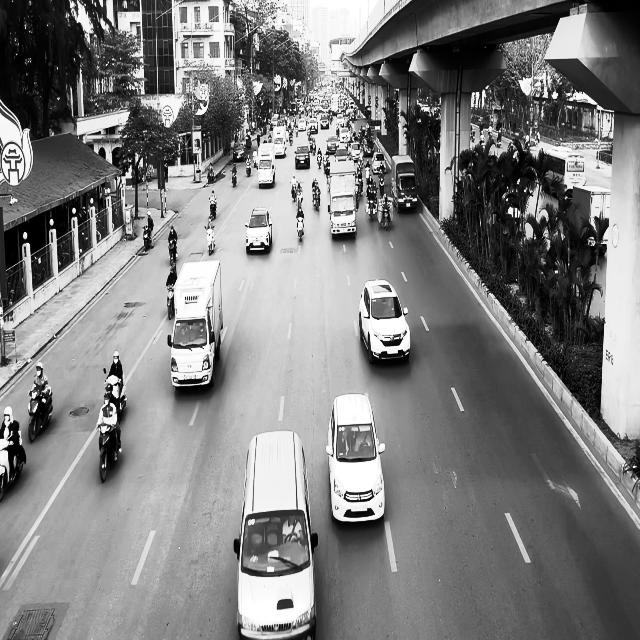bus: (541, 146, 586, 198)
car: (233, 430, 318, 640), (326, 393, 386, 524), (358, 278, 411, 364), (244, 207, 272, 253), (395, 171, 418, 212)
motorbike: (0, 436, 26, 502), (97, 418, 121, 482), (27, 386, 53, 442), (103, 369, 127, 421), (204, 224, 215, 254), (166, 285, 175, 319), (296, 213, 305, 241), (168, 239, 177, 267), (143, 226, 153, 250), (312, 188, 320, 210), (208, 198, 216, 220), (207, 166, 214, 182), (231, 170, 237, 187), (246, 162, 251, 176)
truck: (167, 258, 223, 389)
